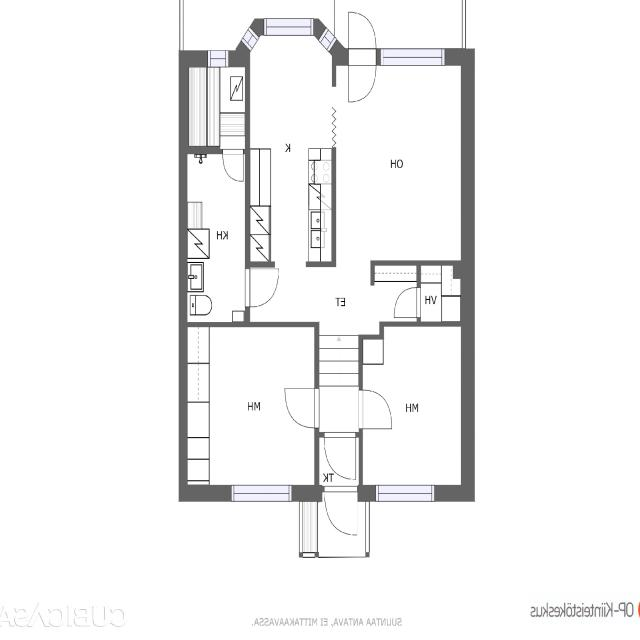door: (324, 486, 357, 536), (348, 48, 376, 101), (348, 12, 376, 65), (324, 432, 355, 479), (285, 388, 319, 428), (359, 389, 392, 429), (245, 268, 278, 306), (394, 287, 420, 318), (223, 149, 243, 181)
